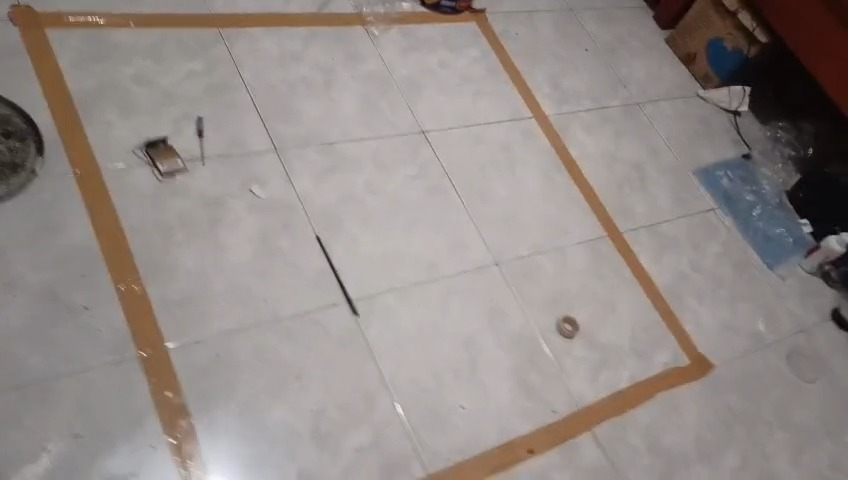floor marking: (9, 5, 369, 479), (384, 11, 712, 477)
